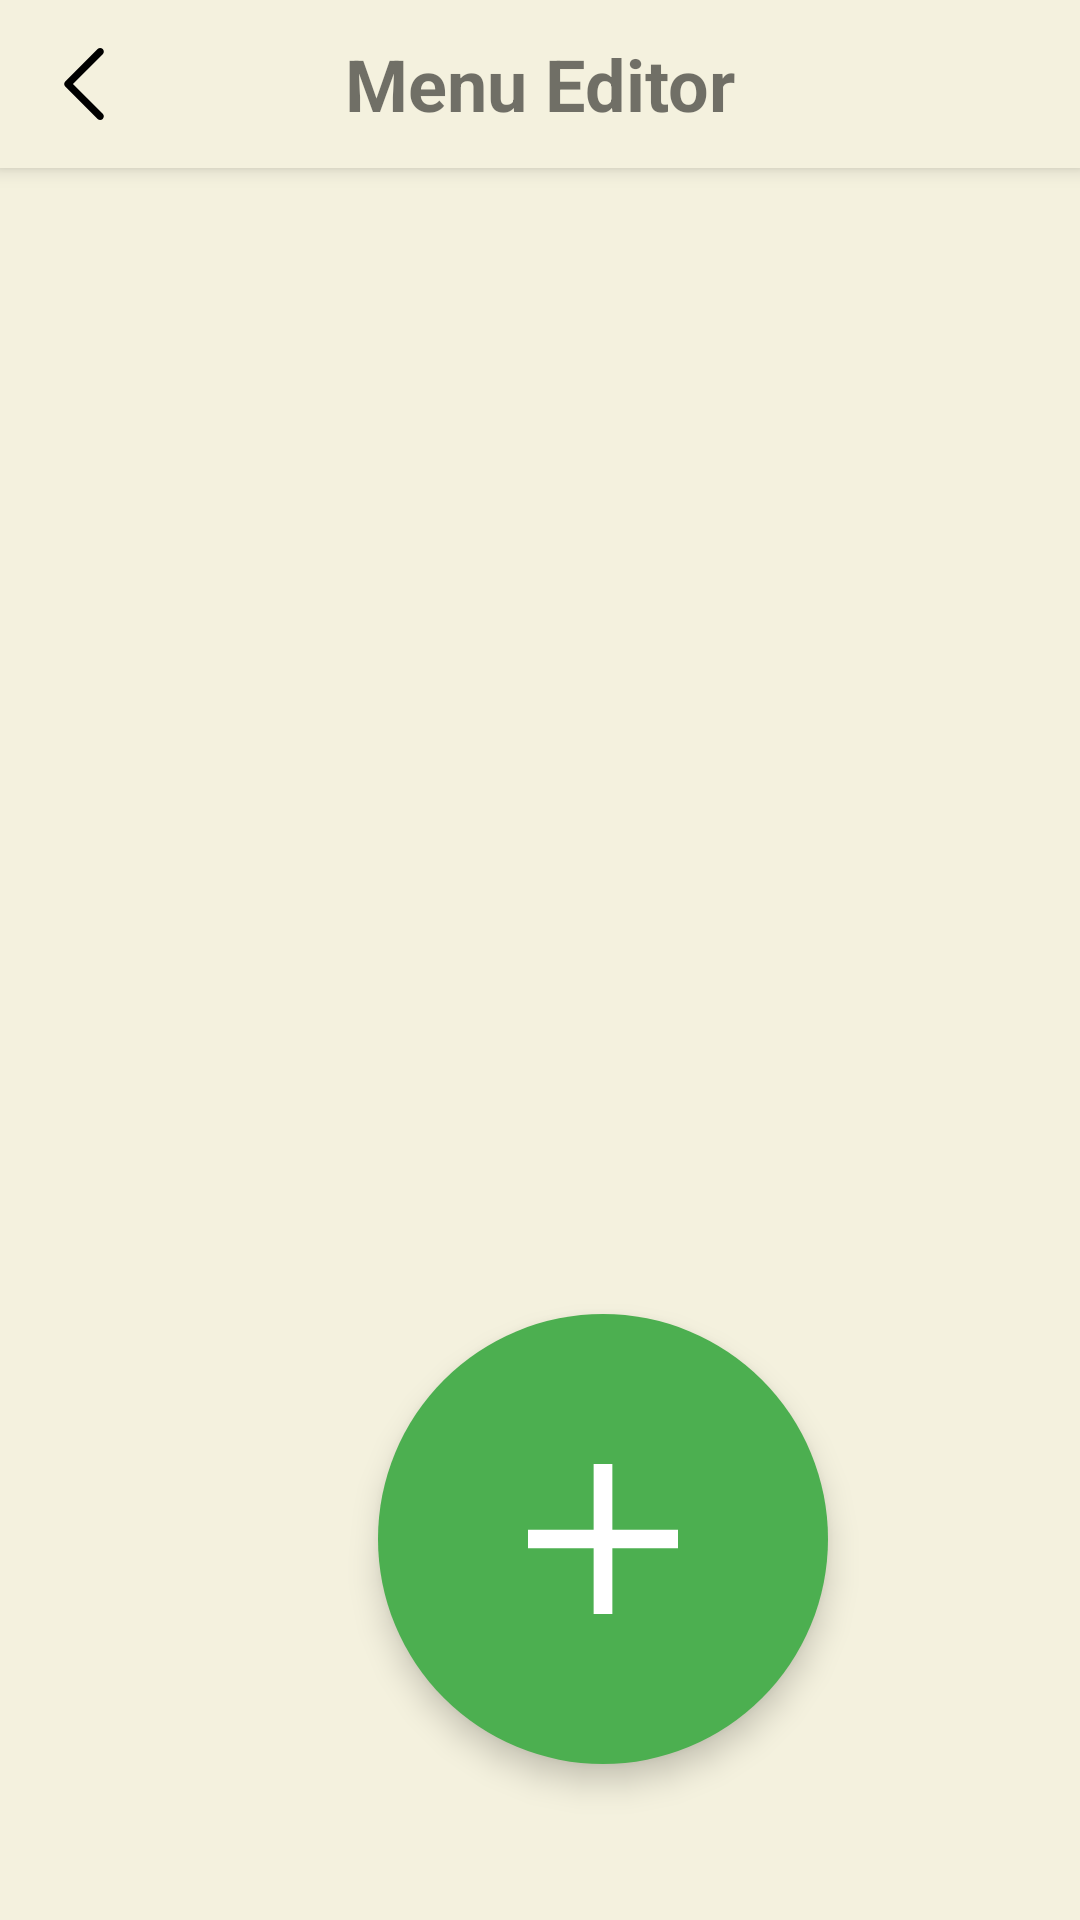

Named icons in this screenshot (1080px×1920px) and their bounding boxes, [left=x1, top=y1, right=x2, bottom=y2]:
back: [left=64, top=48, right=104, bottom=120]
